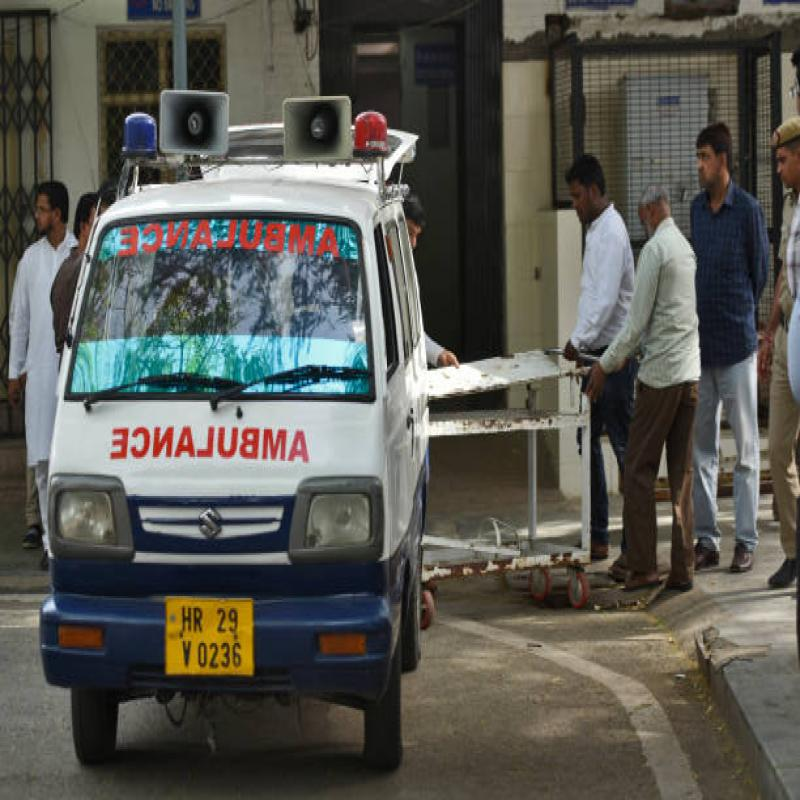ambulance: (31, 52, 436, 800)
